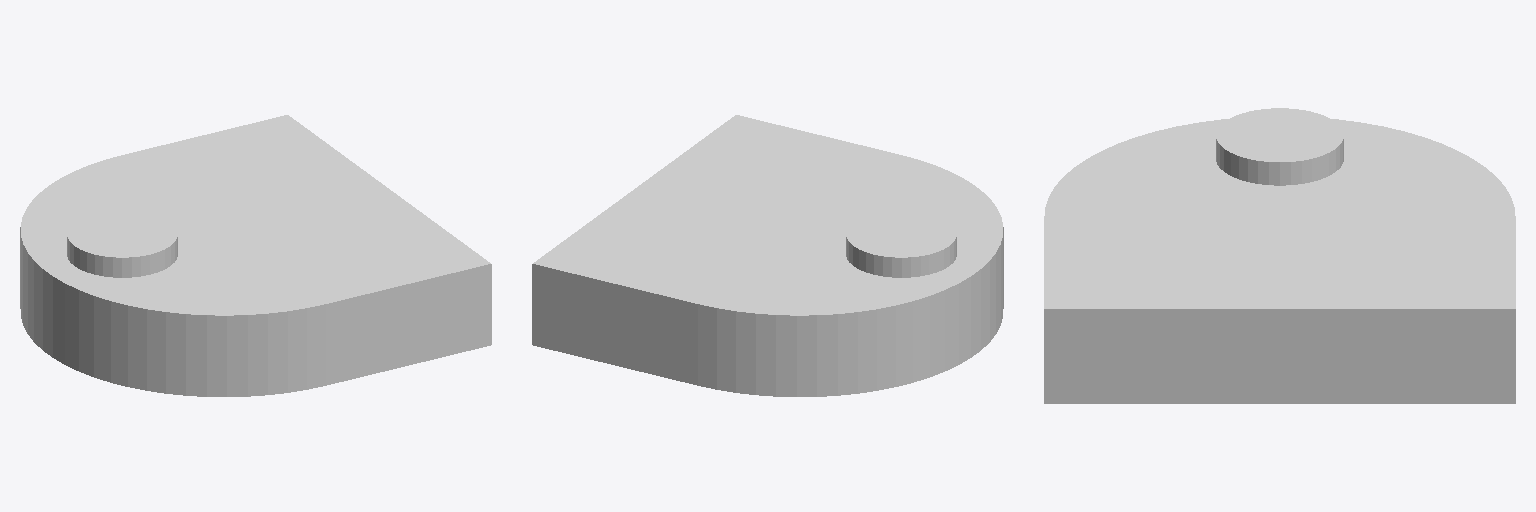
robot.urdf — neato:
<?xml version="1.0"?>

<robot name="neato">
<!-- Neato base links and joints --> 
  <link name="base_footprint"/>

  <link name="base_link">
    <visual>
      <geometry>
        <mesh filename="package://neato_description/urdf/meshes/neato_xv_14.stl" scale="0.001 0.001 0.001"/>
      </geometry>
      <origin rpy="0 0 -1.57079" xyz="-0.165 0.165 0"/>
      <material name="white">
        <color rgba="0.9 0.9 0.9 0.8"/>
      </material>
    </visual>
    <collision>
      <origin xyz="-0.05 0 0.04" rpy="0 0 0"/>
      <geometry>
        <box size="0.322 0.332 0.02"/>        
      </geometry>
    </collision>
    <inertial>
      <mass value="2" />
      <origin xyz="0 0 0" />
      <inertia ixx="0.02" ixy="0.0" ixz="0.0"
               iyy="0.02" iyz="0.0"
               izz="0.03" />
    </inertial>    
  </link>
  <joint name="base_joint" type="fixed">
    <origin xyz="0 0 0.01" rpy="0 0 0" />
    <parent link="base_footprint"/>
    <child link="base_link" />
  </joint>
  
  <link name="wheel_right_link">
    <visual>
      <geometry>
        <mesh filename="package://neato_description/urdf/meshes/neato_wheel.stl" scale="0.001 0.001 0.001"/>        
      </geometry>
      <origin rpy="0 0 -1.57079" xyz="-0.0375 0.007 -0.0375"/>
      <material name="grey">
        <color rgba="0.5 0.5 0.5 1"/>
      </material>
    </visual>
    <collision>
      <origin xyz="0 0 0" rpy="1.57079 0 0"/>
      <geometry>        
        <cylinder length="0.014" radius="0.03752"/>
      </geometry>
    </collision>
    <inertial>
      <mass value="0.04" />
      <origin xyz="0 0 0" />
      <inertia ixx="0.001" ixy="0.0" ixz="0.0"
               iyy="0.001" iyz="0.0"
               izz="0.001" />
    </inertial>
  </link>
  <joint name="base_to_right_wheel" type="continuous">
    <axis xyz="0 1 0" />
    <parent link="base_link"/>
    <child link="wheel_right_link"/>
    <origin xyz="0 -0.116 0.0375"/>
  </joint>
  
  <link name="wheel_left_link">
    <visual>
      <geometry>
        <mesh filename="package://neato_description/urdf/meshes/neato_wheel.stl" scale="0.001 0.001 0.001"/>        
      </geometry>
      <origin rpy="0 0 -1.57079" xyz="-0.0375 0.007 -0.0375"/>
      <material name="grey"/>
    </visual>
    <collision>
      <origin xyz="0 0 0" rpy="1.57079 0 0"/>
      <geometry>        
        <cylinder length="0.014" radius="0.03750"/>
      </geometry>
    </collision>
    <inertial>
      <mass value="0.04" />
      <origin xyz="0 0 0" />
      <inertia ixx="0.001" ixy="0.0" ixz="0.0"
               iyy="0.001" iyz="0.0"
               izz="0.001" />
    </inertial>
  </link>
  <joint name="base_to_left_wheel" type="continuous">
    <axis xyz="0 1 0" />
    <parent link="base_link"/>
    <child link="wheel_left_link"/>
    <origin xyz="0 0.116 0.0375"/>
  </joint>
  
  <link name="front_caster">    
    <visual>
      <origin xyz="0 0 0" rpy="0 1.57079 0"/>      
      <geometry>
        <cylinder length="0.02" radius="0.01"/>        
      </geometry>
      <material name="grey"/>
    </visual>
    <collision>
      <origin xyz="0 0 0" rpy="0 0 0"/>
      <geometry>
        <cylinder length="0.02" radius="0.01"/>        
      </geometry>
    </collision>
    <inertial>
      <mass value="0.01" />
      <origin xyz="0 0 0" />
      <inertia ixx="0.001" ixy="0.0" ixz="0.0"
               iyy="0.001" iyz="0.0"
               izz="0.001" />
    </inertial>
  </link>
  <joint name="base_to_front_caster" type="fixed">
    <axis xyz="1 0 0" />
    <parent link="base_link"/>
    <child link="front_caster"/>
    <origin xyz="0.1 0 0.011"/>
  </joint>
  
  <link name="rear_caster">
    <visual>
      <origin xyz="0 0 0" rpy="0 1.57079 0"/>      
      <geometry>
        <cylinder length="0.02" radius="0.01"/>        
      </geometry>
      <material name="grey"/>
    </visual>    
    <collision>
      <origin xyz="0 0 0" rpy="0 0 0"/>
      <geometry>
        <cylinder length="0.02" radius="0.01"/>       
      </geometry>
    </collision>
    <inertial>
      <mass value="0.01" />
      <origin xyz="0 0 0" />
      <inertia ixx="0.001" ixy="0.0" ixz="0.0"
               iyy="0.001" iyz="0.0"
               izz="0.001" />
    </inertial>
  </link>
  <joint name="base_to_rear_caster" type="fixed">
    <axis xyz="1 0 0" />
    <parent link="base_link"/>
    <child link="rear_caster"/>
    <origin xyz="-0.1 0 0.011"/>
  </joint>  
  
<!-- Neato base gazebo extensions -->
  <gazebo reference="base_link">
    <mu1>0.3</mu1>
    <mu2>0.3</mu2>
    <material>Gazebo/White</material>            
  </gazebo>

  <gazebo reference="right_wheel">
    <mu1>1.0</mu1>
    <mu2>1.0</mu2>
    <kp>1000000.0</kp>
    <kd>100.0</kd>
    <minDepth>0.001</minDepth>
    <maxVel>1.0</maxVel>    
    <material>Gazebo/Black</material>    	    
  </gazebo>
	
  <gazebo reference="left_wheel">
    <mu1>1.0</mu1>
    <mu2>1.0</mu2>
    <kp>1000000.0</kp>
    <kd>100.0</kd>
    <minDepth>0.001</minDepth>
    <maxVel>1.0</maxVel>    
    <material>Gazebo/Black</material>    	    
  </gazebo>

  <gazebo reference="front_caster">
    <mu1>0.0</mu1>
    <mu2>0.0</mu2>
    <kp>1000000.0</kp>
    <kd>100.0</kd>
    <minDepth>0.001</minDepth>
    <maxVel>1.0</maxVel>
    <material>Gazebo/Blue</material>
  </gazebo>

  <gazebo reference="rear_caster">
    <mu1>0.0</mu1>
    <mu2>0.0</mu2>
    <kp>1000000.0</kp>
    <kd>100.0</kd>
    <minDepth>0.001</minDepth>
    <maxVel>1.0</maxVel>
    <material>Gazebo/Blue</material>
  </gazebo>

  <gazebo>
    <plugin name="differential_drive_controller" filename="libgazebo_ros_diff_drive.so">
      <legacyMode>false</legacyMode>
      <publishTf>1</publishTf> 
      <publishWheelTF>true</publishWheelTF>
      <publishWheelJointState>true</publishWheelJointState>  
      <alwaysOn>true</alwaysOn>
      <updateRate>20</updateRate>
      <leftJoint>base_to_left_wheel</leftJoint>
      <rightJoint>base_to_right_wheel</rightJoint>
      <wheelSeparation>0.232</wheelSeparation>
      <wheelDiameter>0.075</wheelDiameter>
      <wheelTorque>5</wheelTorque>
      <wheelAcceleration>0</wheelAcceleration>
      <commandTopic>/cmd_vel</commandTopic>
      <odometryTopic>odom</odometryTopic>
      <odometryFrame>odom</odometryFrame>
      <robotBaseFrame>base_footprint</robotBaseFrame>
    </plugin>    
  
</gazebo>

<!-- Laser sensor link and joint --> 
  <link name="neato_laser">
    <visual>
      <origin xyz="0 0 0" rpy="0 0 0"/>
      <geometry>
        <cylinder length="0.01" radius="0.01"/>
      </geometry>
      <material name="grey"/>
    </visual> 
    <collision>
      <origin xyz="0 0 0" rpy="0 0 0"/>
      <geometry>
        <box size="0.1 0.1 0.1"/>
      </geometry>
    </collision>
    <inertial>
      <mass value="0.000001" />
      <origin xyz="0 0 0" rpy="0 0 0"/>
      <inertia ixx="0.0001" ixy="0.0" ixz="0.0"
               iyy="0.0001" iyz="0.0"
               izz="0.0001" />
    </inertial>     
  </link>

  <joint name="base_to_laser" type="fixed">
    <axis xyz="0 0 1" />
    <origin xyz="-0.1 0.0 0.09" rpy="0 0 0" />
    <parent link="base_link" />
    <child link="neato_laser" />
  </joint>

<!-- Laser sensor gazebo extensions -->
  <gazebo reference="neato_laser">    
    <sensor name="hokuyo_laser" type="ray">
      <pose>0 0 0 0 0 0</pose>
      <ray>
        <scan>
          <horizontal>
            <samples>360</samples>
            <resolution>1</resolution>
            <min_angle>-3.14</min_angle>
            <max_angle>3.14</max_angle>
          </horizontal>
        </scan>
        <range>
          <min>0.1</min>
          <max>4</max>
          <resolution>0.01</resolution>
        </range>
      </ray>
      <plugin name="laser" filename="libgazebo_ros_laser.so">
	  <topicName>/scan</topicName>
          <frameName>neato_laser</frameName>
      </plugin>
      <always_on>1</always_on>
      <update_rate>5</update_rate>
      <visualize>false</visualize>        
    </sensor>
  </gazebo>

<!-- Kinect sensor links and joints --> 
  <joint name="camera_rgb_joint" type="fixed">
      <origin rpy="0 0 0" xyz="-0.065 -0.0125 0.152"/>
      <parent link="base_link"/>
      <child link="camera_rgb_frame"/>
  </joint>
  <link name="camera_rgb_frame"/>

  <joint name="camera_rgb_optical_joint" type="fixed">
    <origin rpy="-1.570795 0 -1.570795" xyz="0 0 0"/>
    <parent link="camera_rgb_frame"/>
    <child link="camera_rgb_optical_frame"/>
  </joint>
  <link name="camera_rgb_optical_frame"/>

  <joint name="camera_joint" type="fixed">
    <origin rpy="0 0 0" xyz="-0.031 0.0125 -0.016"/>
    <parent link="camera_rgb_frame"/>
    <child link="camera_link"/>
  </joint>
  <link name="camera_link">
    <visual>
      <origin rpy="0 0 1.570795" xyz="0 0 0"/>
      <geometry>
        <mesh filename="package://neato_description/urdf/meshes/kinect.dae"/>
      </geometry>
    </visual>
    <collision>
      <origin xyz="0.0 0.0 0.0" rpy="0 0 0"/>
      <geometry>
        <box size="0.07271 0.27794 0.02"/>
      </geometry>
    </collision>
    <inertial>
      <mass value="0.564" />
      <origin xyz="0 0 0" />
      <inertia ixx="0.003881243" ixy="0.0" ixz="0.0"
               iyy="0.000498940" iyz="0.0"
               izz="0.003879257" />
    </inertial>
  </link>
  <!-- The fixed joints & links below are usually published by static_transformers launched by the OpenNi launch 
         files. However, for Gazebo simulation we need them, so we add them here.
         (Hence, don't publish them additionally!) -->
  <joint name="camera_depth_joint" type="fixed">
    <origin rpy="0 0 0" xyz="0 0.025 0"/>
    <parent link="camera_rgb_frame"/>
    <child link="camera_depth_frame"/>
  </joint>
  <link name="camera_depth_frame"/>

  <joint name="camera_depth_optical_joint" type="fixed">
    <origin rpy="-1.570795 0 -1.570795" xyz="0 0 0"/>
    <parent link="camera_depth_frame"/>
    <child link="camera_depth_optical_frame"/>
  </joint>
  <link name="camera_depth_optical_frame"/>

<!-- Kinect sensor gazebo extensions -->
  <gazebo reference="camera_link">     
    <sensor type="depth" name="camera">
      <always_on>true</always_on>
      <update_rate>20.0</update_rate>
      <camera>
        <horizontal_fov>1.04719</horizontal_fov>
        <image>
          <format>B8G8R8</format>
          <width>640</width>
          <height>480</height>
        </image>
        <clip>
          <near>0.05</near>
          <far>8.0</far>
        </clip>
      </camera>
      <plugin name="kinect_camera_controller" filename="libgazebo_ros_openni_kinect.so">
        <cameraName>camera</cameraName>
        <alwaysOn>true</alwaysOn>
        <updateRate>10</updateRate>
        <imageTopicName>rgb/image_raw</imageTopicName>
        <depthImageTopicName>depth/image_raw</depthImageTopicName>
        <pointCloudTopicName>depth/points</pointCloudTopicName>
        <cameraInfoTopicName>rgb/camera_info</cameraInfoTopicName>
        <depthImageCameraInfoTopicName>depth/camera_info</depthImageCameraInfoTopicName>
        <frameName>camera_depth_optical_frame</frameName>
        <baseline>0.1</baseline>
        <distortion_k1>0.0</distortion_k1>
        <distortion_k2>0.0</distortion_k2>
        <distortion_k3>0.0</distortion_k3>
        <distortion_t1>0.0</distortion_t1>
        <distortion_t2>0.0</distortion_t2>
        <pointCloudCutoff>0.4</pointCloudCutoff>
      </plugin>
    </sensor>
  </gazebo>

</robot>

--- Render facts (derived) ---
The picture shows the robot from 3 angles, left to right: view 1: azimuth 30°, elevation 25°; view 2: azimuth 150°, elevation 25°; view 3: azimuth 270°, elevation 25°; orthographic projection.
Model neato with 12 links and 11 joints (2 continuous, 9 fixed), rooted at base_footprint, posed every joint at zero.
Visible links, largest first — view 1: base_link; view 2: base_link; view 3: base_link.
Link boxes in pixels (x1,y1,x2,y2): base_link: (20, 115, 491, 396); base_link: (532, 115, 1003, 396); base_link: (1044, 108, 1515, 403).
Size in the robot's own frame: 0.3198 by 0.33 by 0.1011 metres.
Meshes: 3 distinct files referenced, 3 mesh visuals loaded (2 binary STL); not drawn: 1 (reference not matched to a file when rendering).
